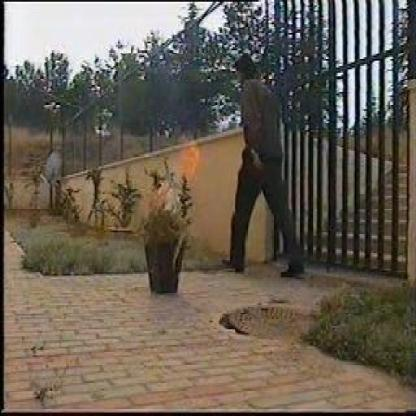foggia-v2-map80-epoch100 - v1 4323: (173, 138, 197, 195)
